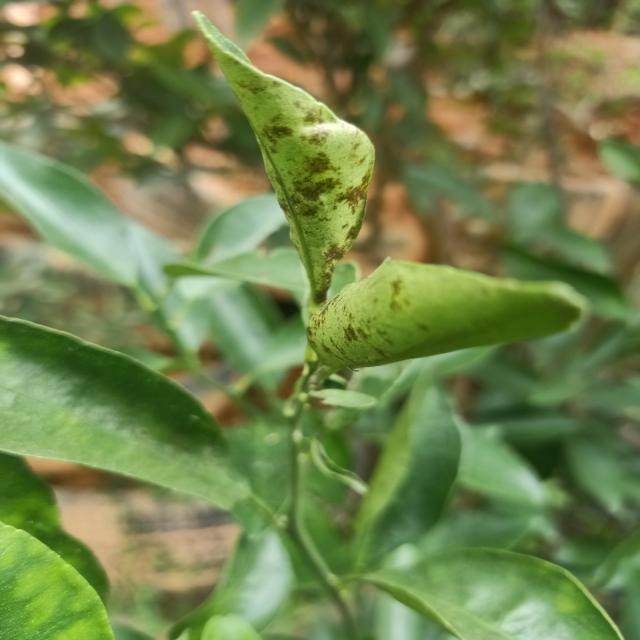melanose: (202, 2, 386, 285), (290, 270, 592, 382)
